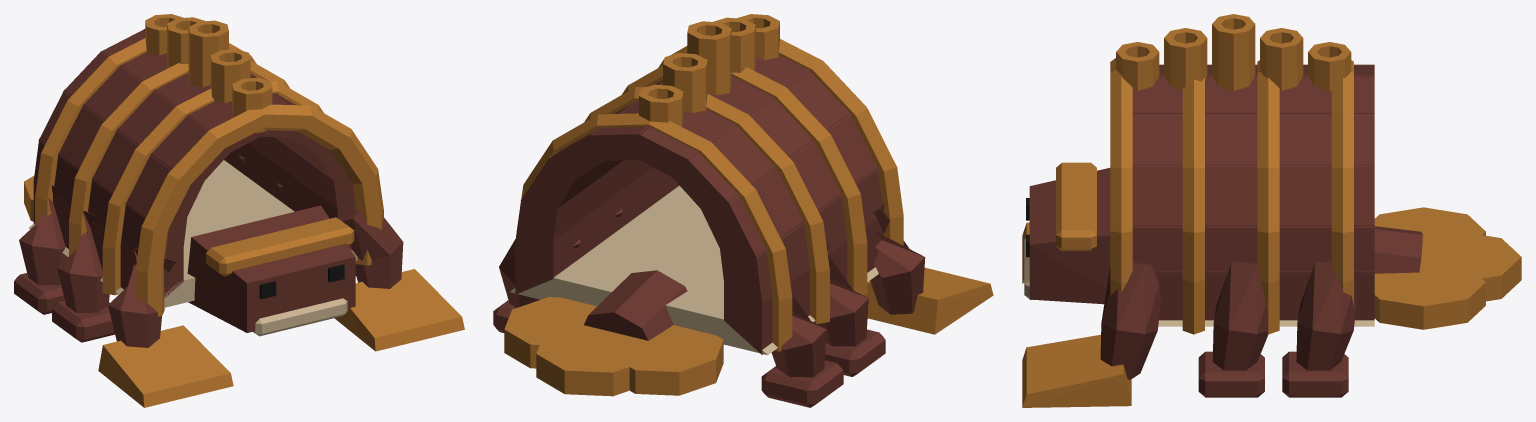
The model's file is kilnarch.glb.
3 views of the same model, side by side, from view 1: azimuth 30°, elevation 25°; view 2: azimuth 150°, elevation 25°; view 3: azimuth 270°, elevation 25° (orthographic). The views are drawn at different scales.
Parts seen in each view (by area): view 1: Kilnarch; view 2: Kilnarch; view 3: Kilnarch.
Boxes of the visible parts, x1,y1,x2,y2 form: Kilnarch: (14, 14, 464, 407); Kilnarch: (493, 14, 993, 407); Kilnarch: (1022, 14, 1521, 407).
Bounding box in the file's own units: 1.8 × 1.45 × 2.2.
